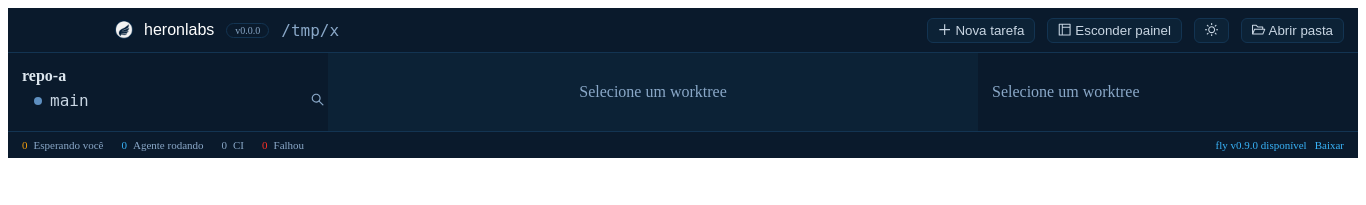
Test: AppShell › opens the release page on Baixar and shows a rejection as an alert
Click the button "Baixar": (1329, 145) [1315,139,1344,151]
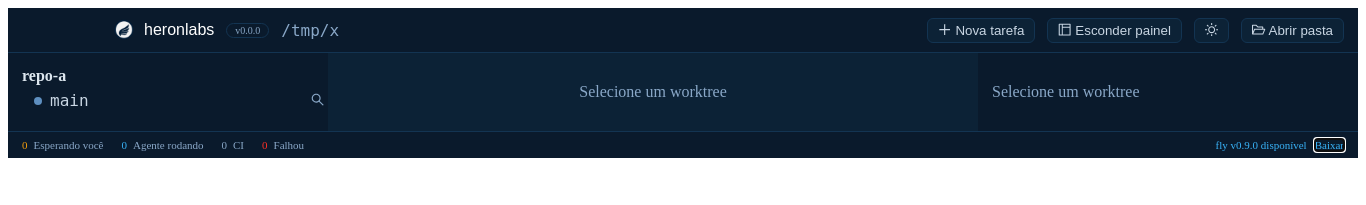
Click the button "Baixar": (1329, 145) [1315,139,1344,151]
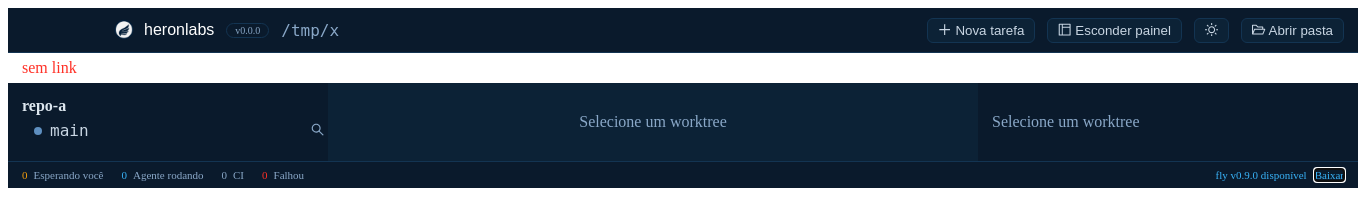
Now the message reads "sem link", box [22,59,77,76]
